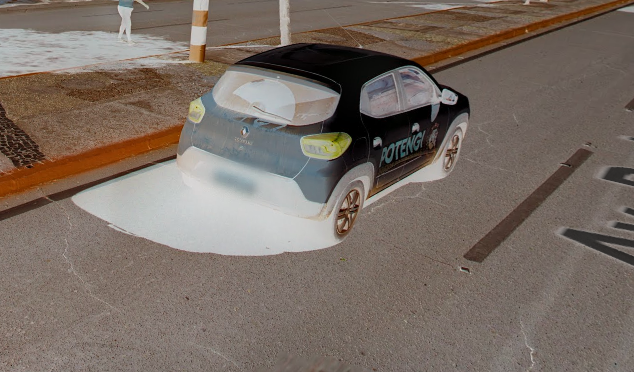car: (174, 6, 472, 246)
